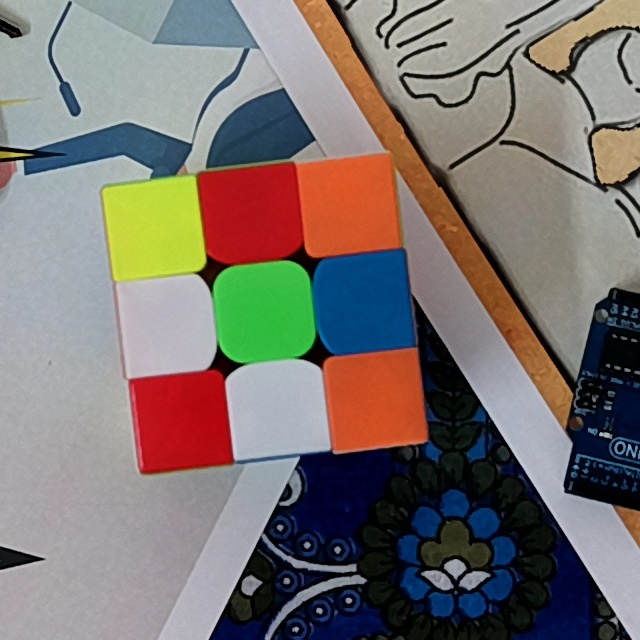tile: (208, 173, 293, 252), (311, 164, 392, 245), (324, 261, 403, 342), (238, 371, 317, 449), (335, 359, 415, 436), (141, 382, 218, 460), (116, 188, 195, 264), (130, 282, 204, 363), (227, 273, 304, 349)
